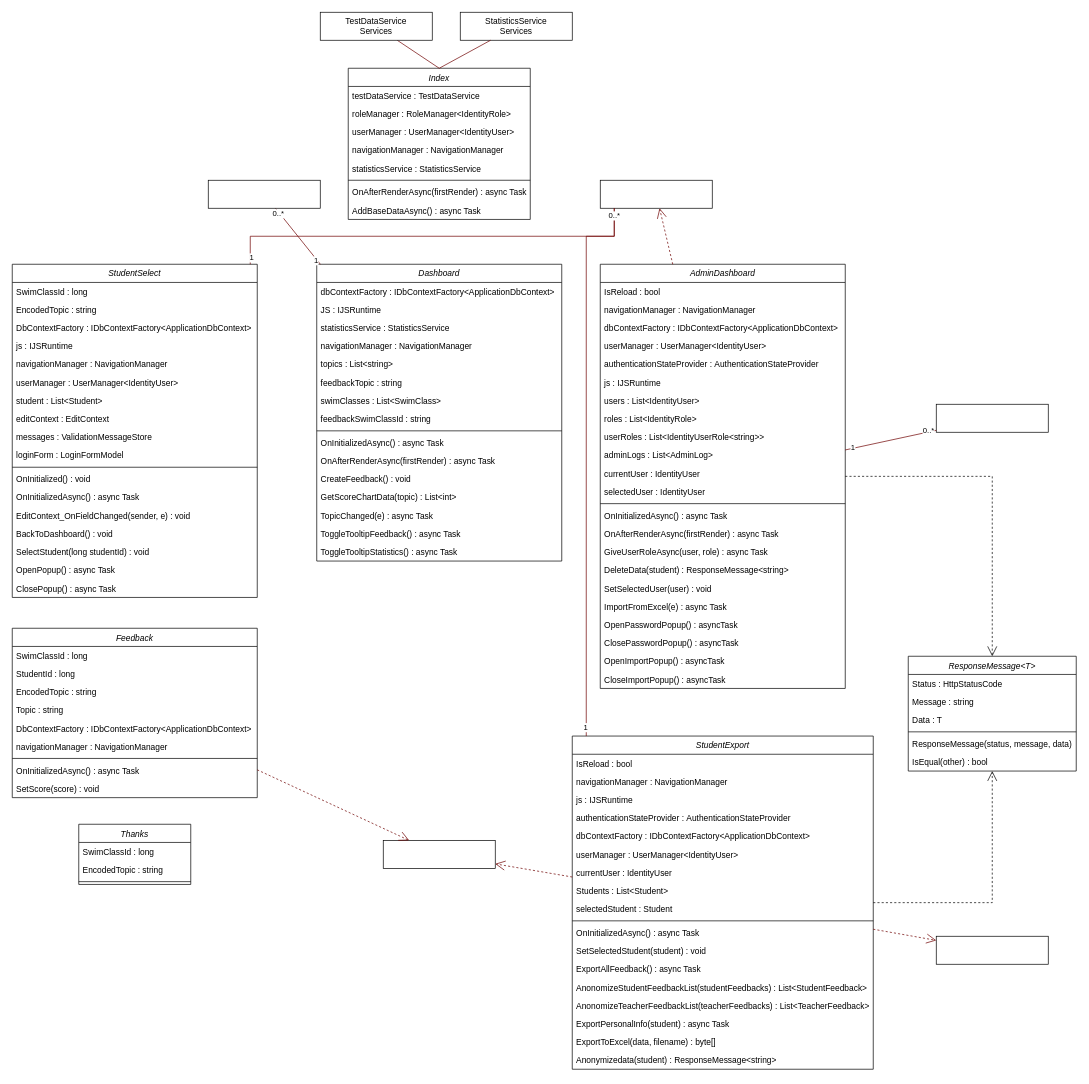
Image size: 1089x1084. Some labels were removed from this diagram. Each missing label, with the centre of its shape:
"AdminLog Data" goes at point 992,418.
"Student Data" goes at point 656,194.
"StudentFeedback Data" goes at point 439,854.
"SwimClass Data" goes at point 264,194.
"TeacherFeedback Data" goes at point 992,950.
